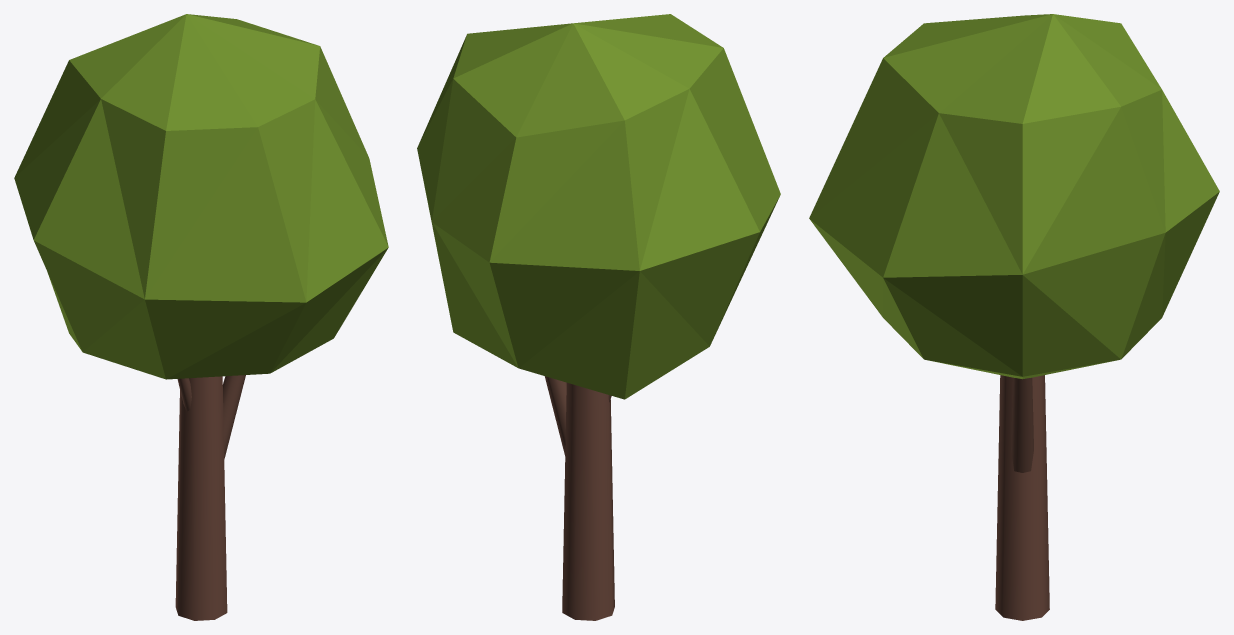
Rendered from tree2.fbx.
3 views of the same model, side by side, from view 1: azimuth 30°, elevation 25°; view 2: azimuth 150°, elevation 25°; view 3: azimuth 270°, elevation 25° (orthographic). The views are drawn at different scales.
Visible parts, largest first — view 1: sptp_tree_01; view 2: sptp_tree_01; view 3: sptp_tree_01.
Part boxes in pixels (x1,y1,x2,y2): sptp_tree_01: [14, 14, 388, 620]; sptp_tree_01: [417, 14, 780, 620]; sptp_tree_01: [809, 14, 1219, 620].
Size of the model in its own units: 290 by 483 by 302.
1 material, 1 textured.
